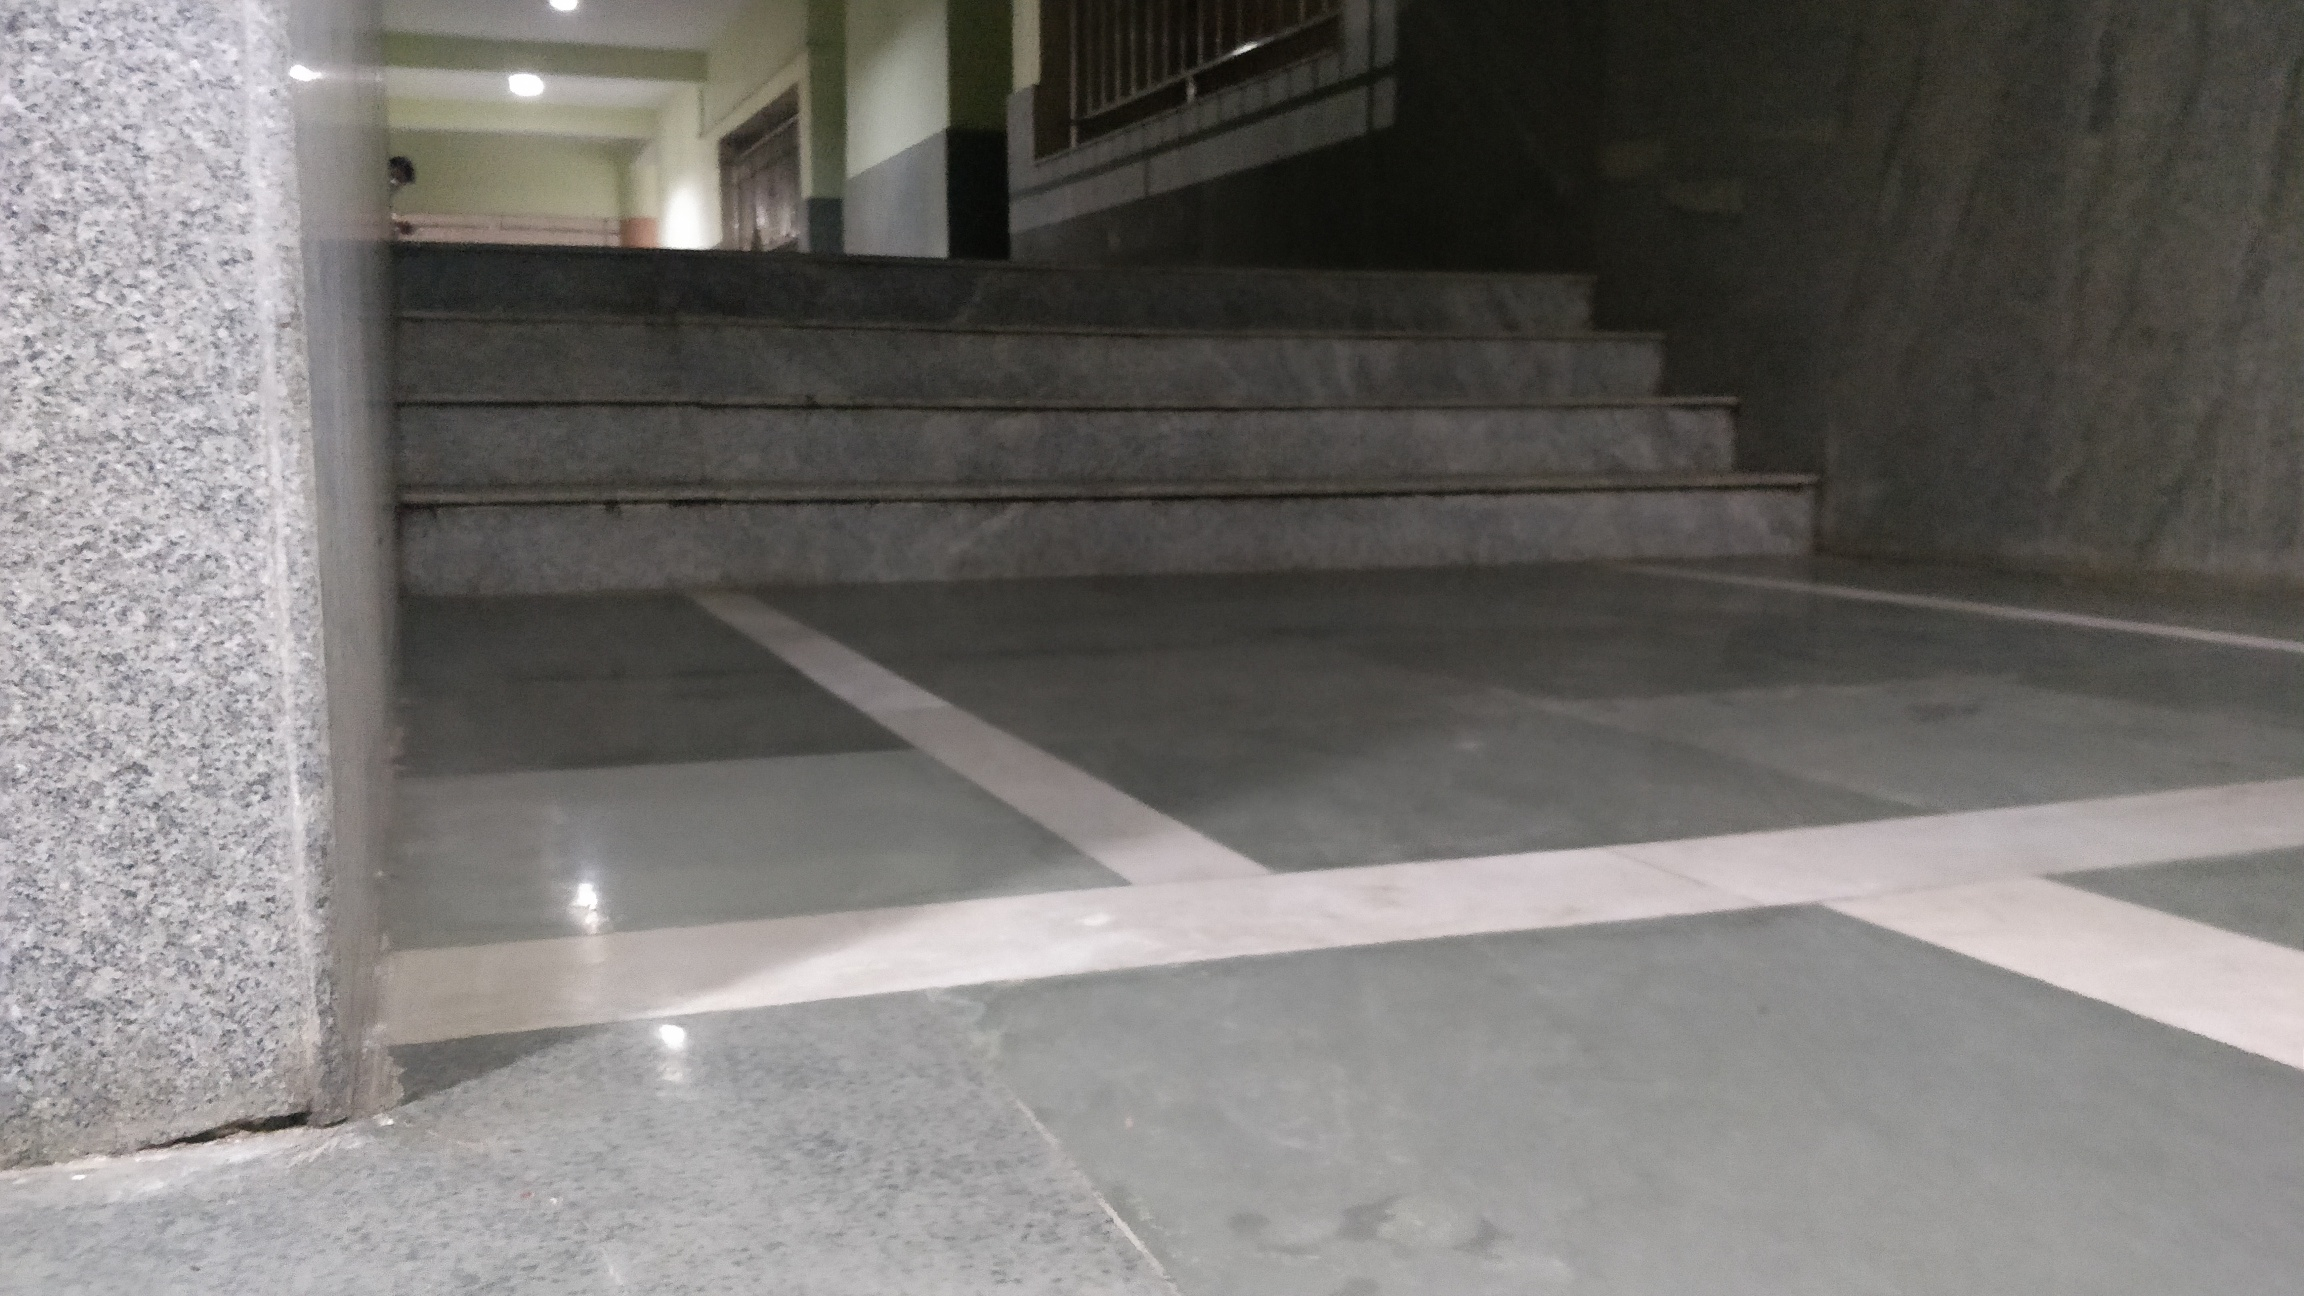stairs_up: (405, 239, 1818, 585)
